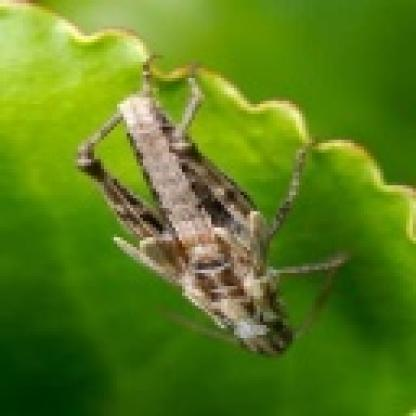grasshopper: (75, 74, 345, 363)
